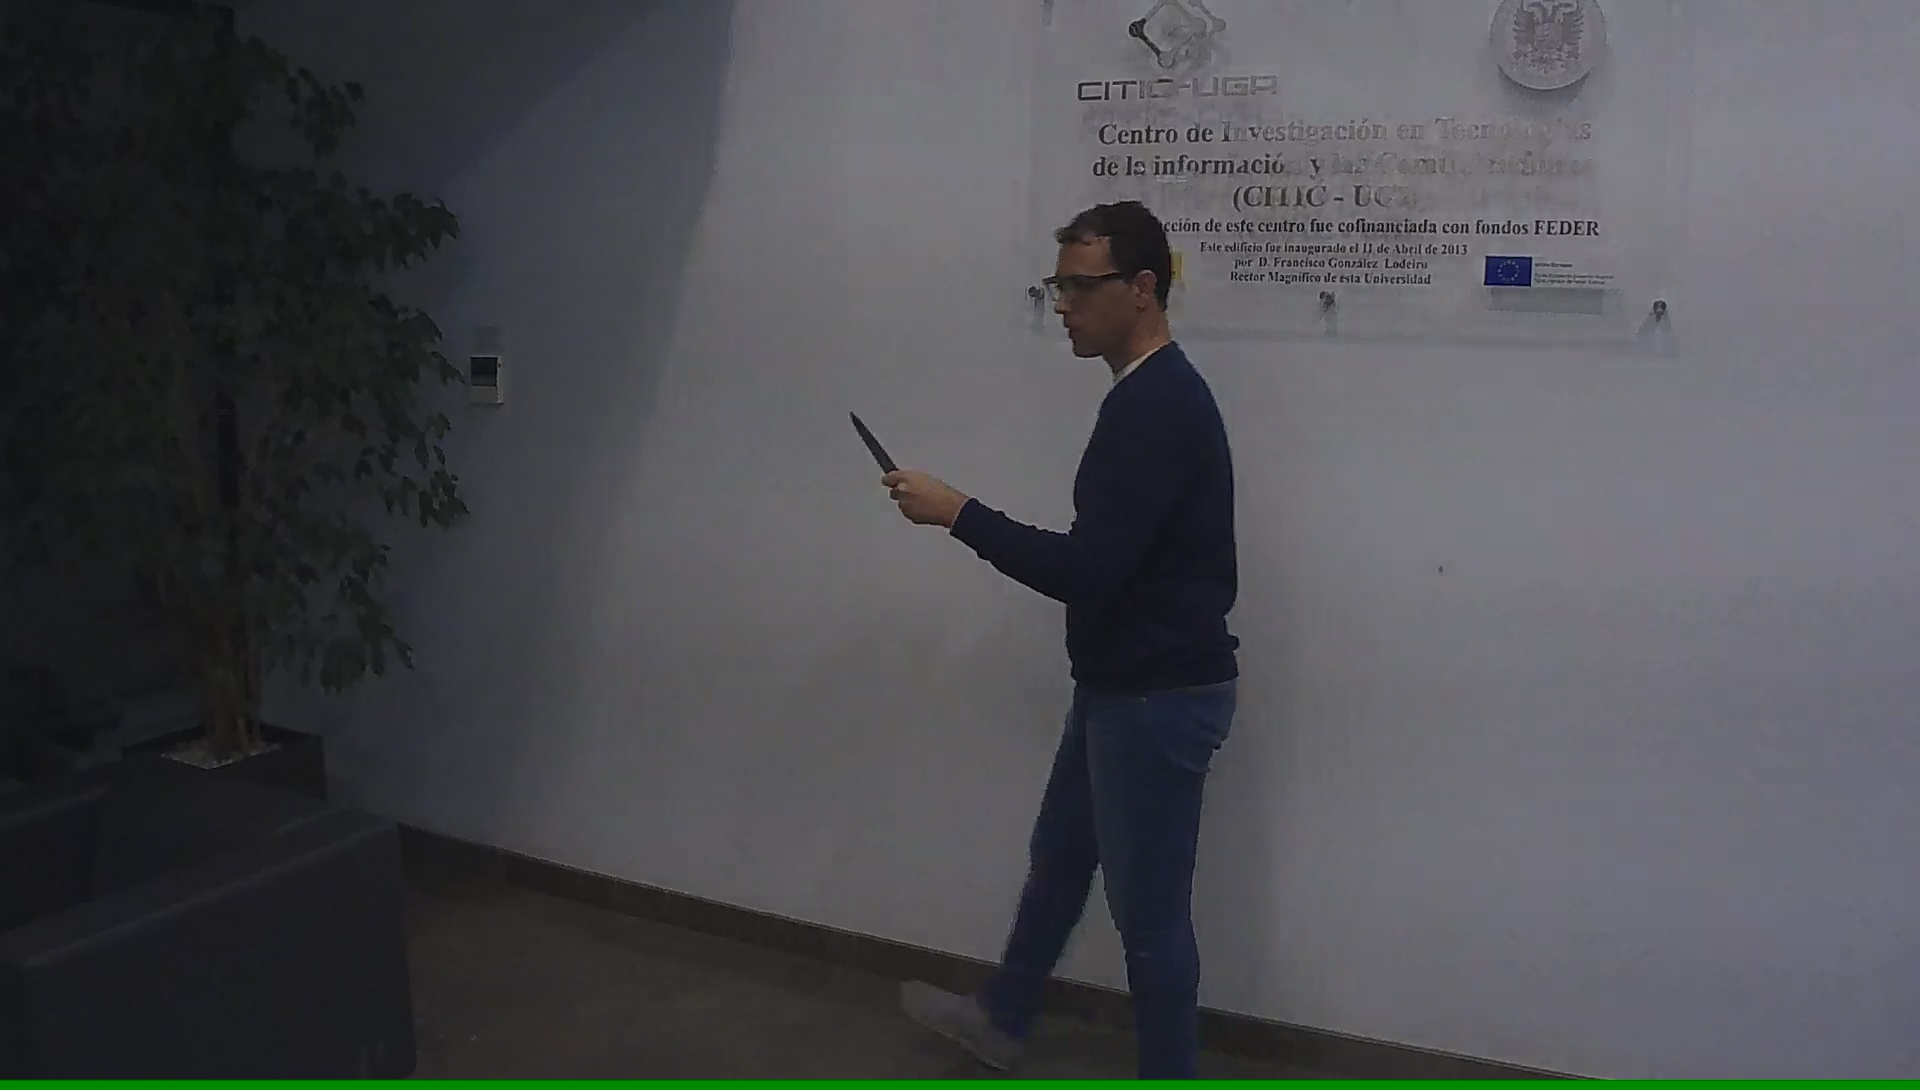knife: (843, 399, 931, 532)
